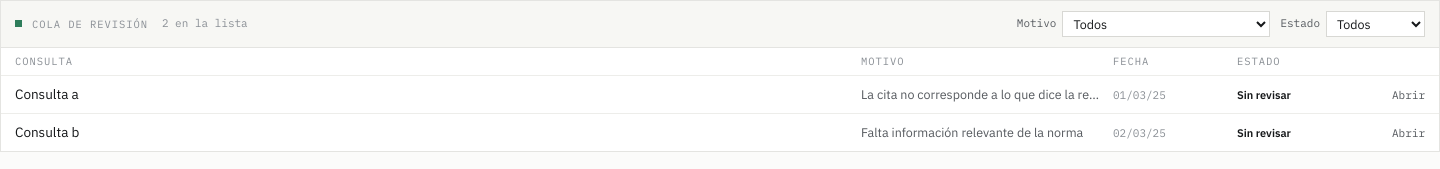
Scenario: review queue list › filters by reason category
Select "Falta información relevante de la norma" in the dropdown labelled "Motivo" at (1166, 24), box [1062,11,1270,37]
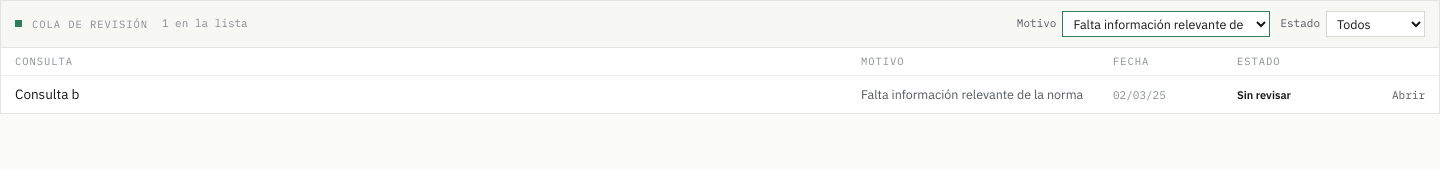
Expected: the list item shows "Consulta b", [15,85,79,103]
Result: the number of list items is 1 at [15,85,1425,103]
